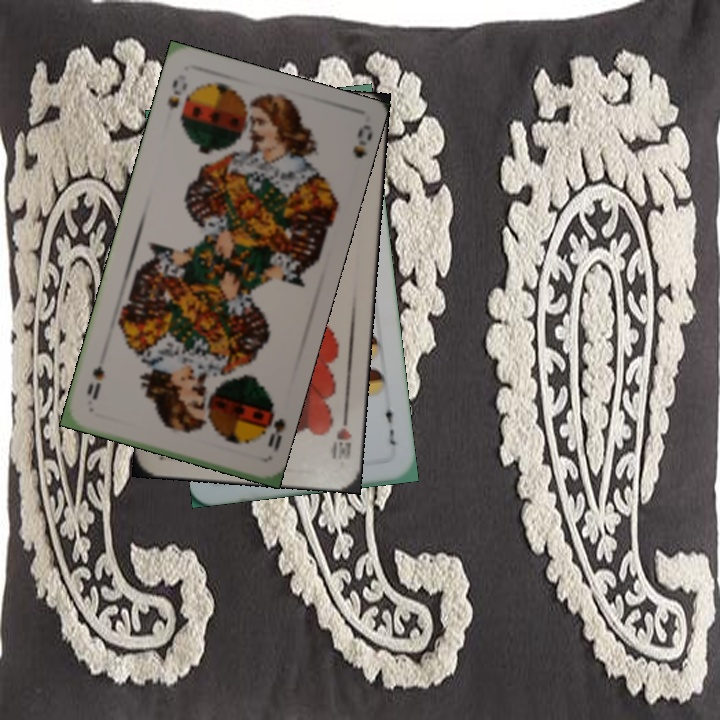E7: (381, 398, 399, 449)
H10: (327, 406, 355, 463)
SO: (258, 397, 288, 455), (163, 75, 190, 114)
